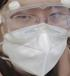with_mask: (1, 2, 70, 76)
